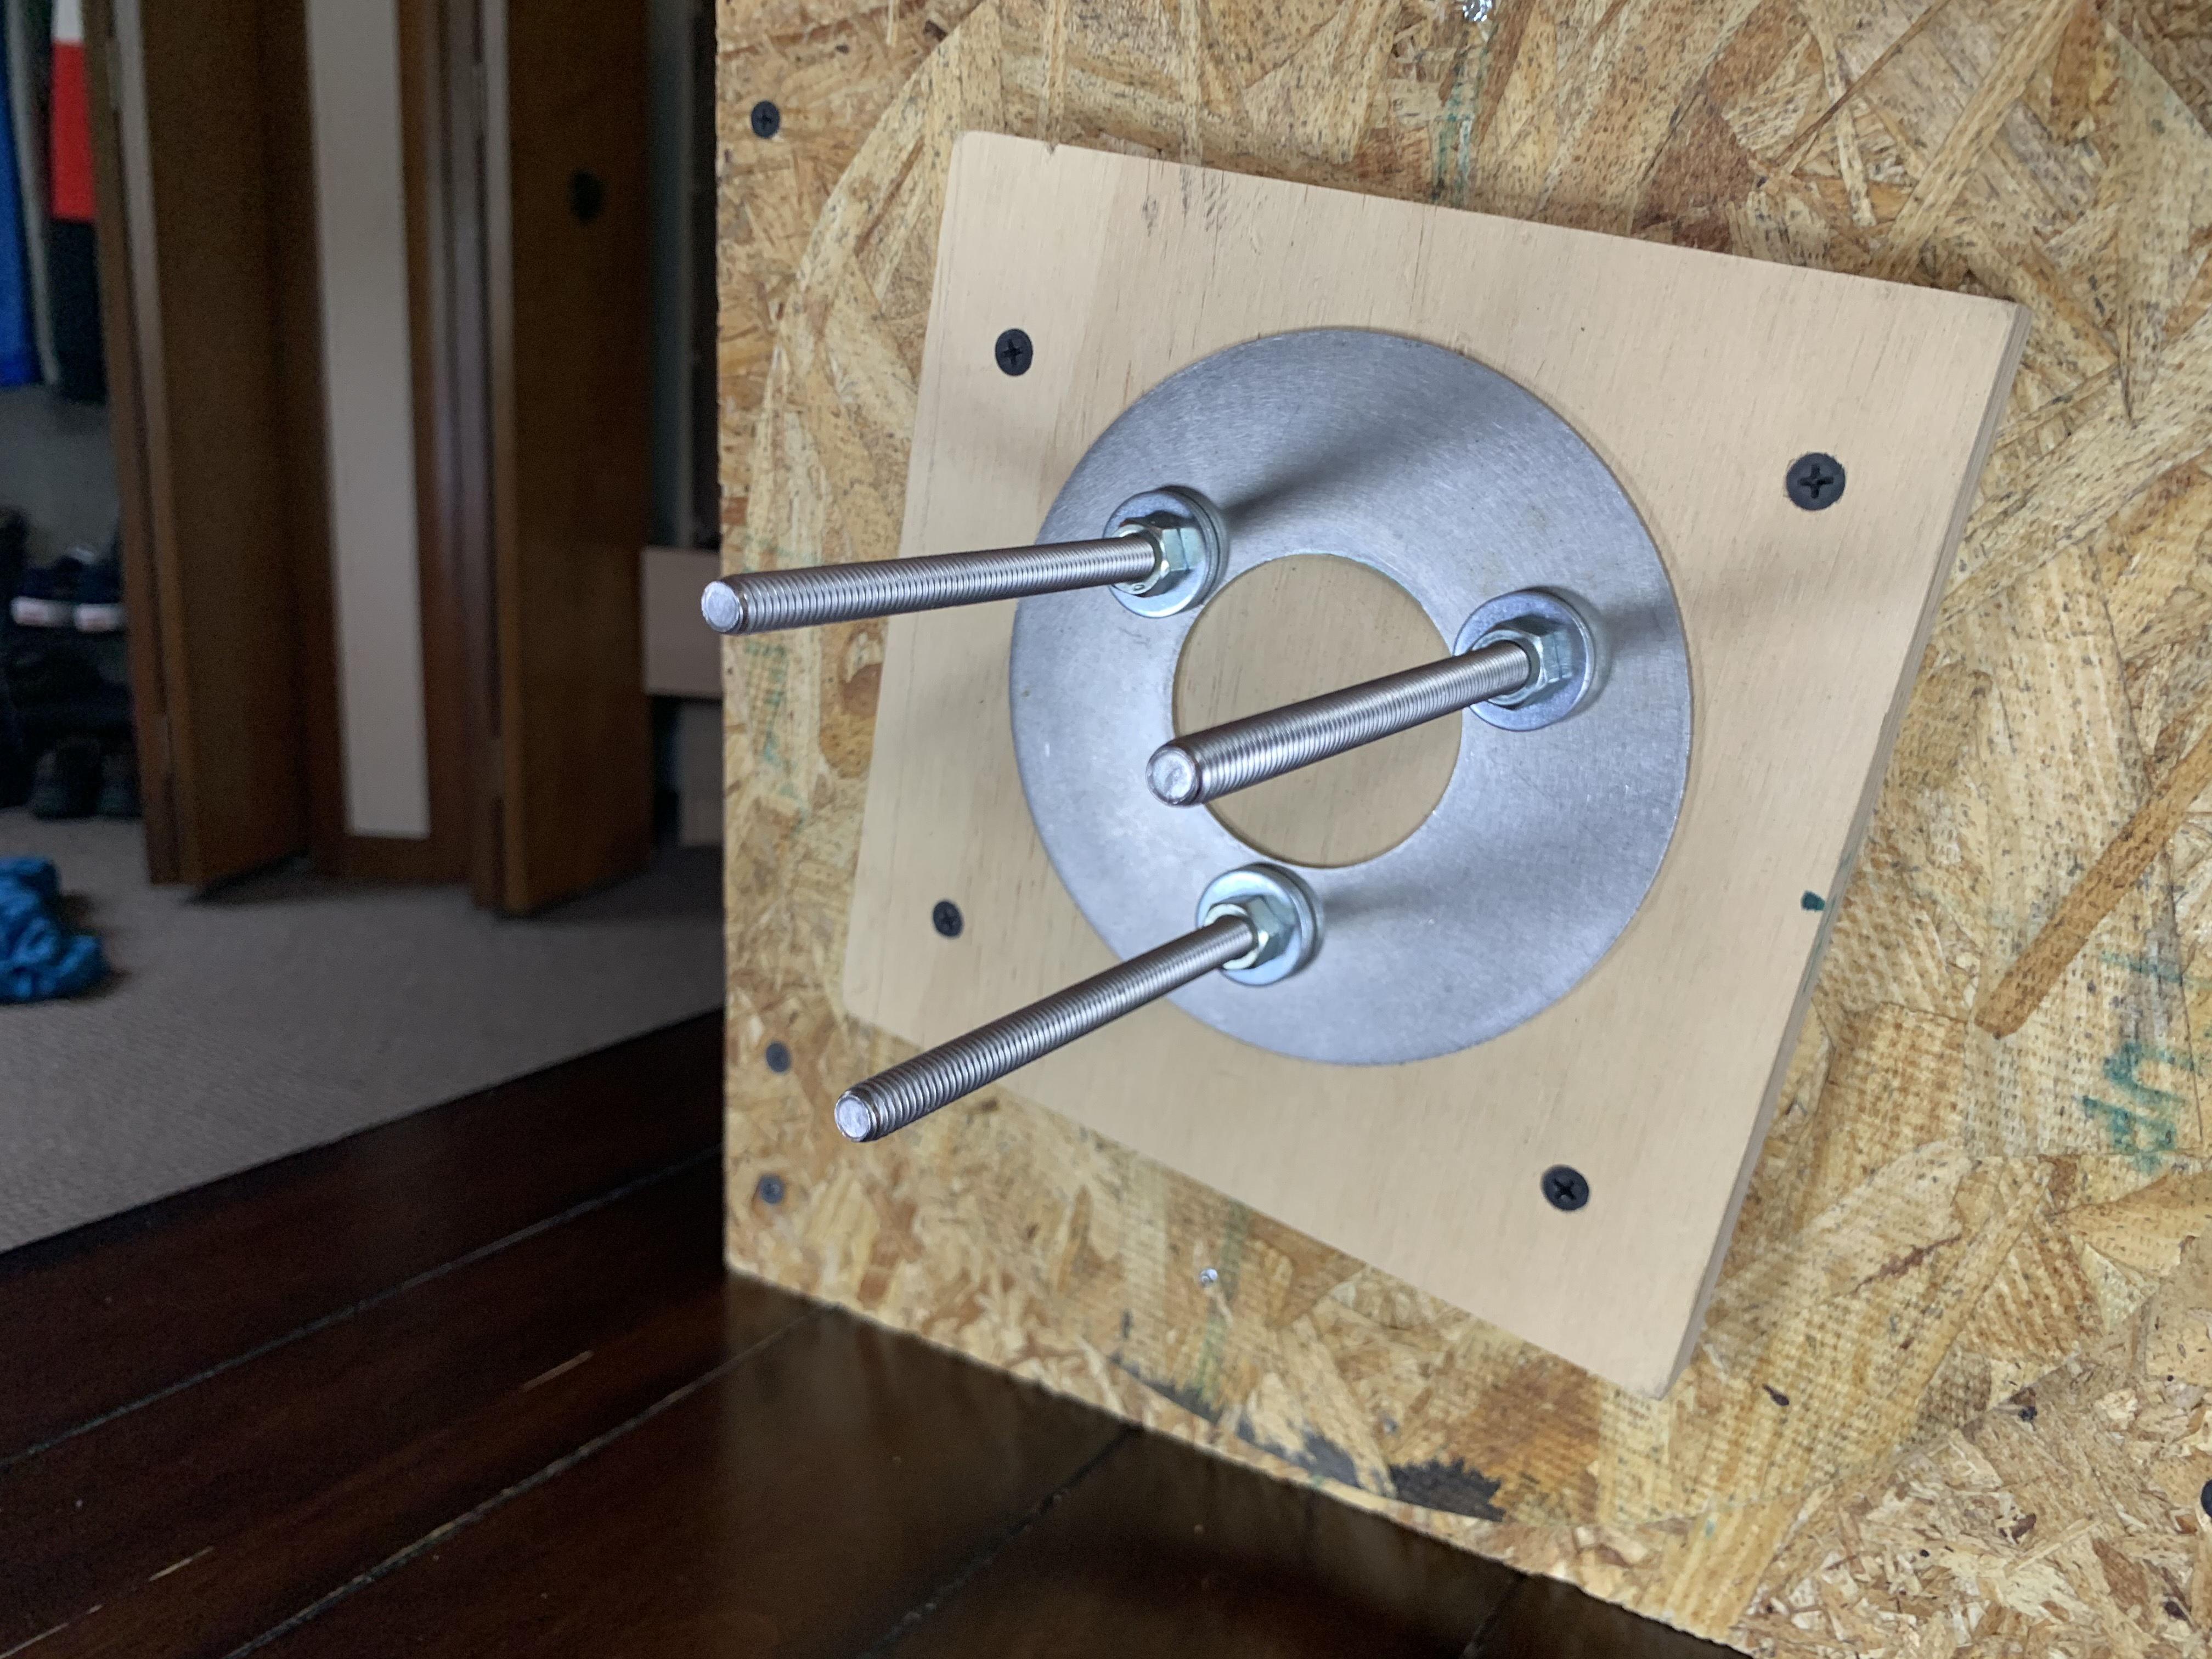bolt: (1453, 589, 1597, 734), (1195, 866, 1317, 986), (1106, 490, 1217, 619)
